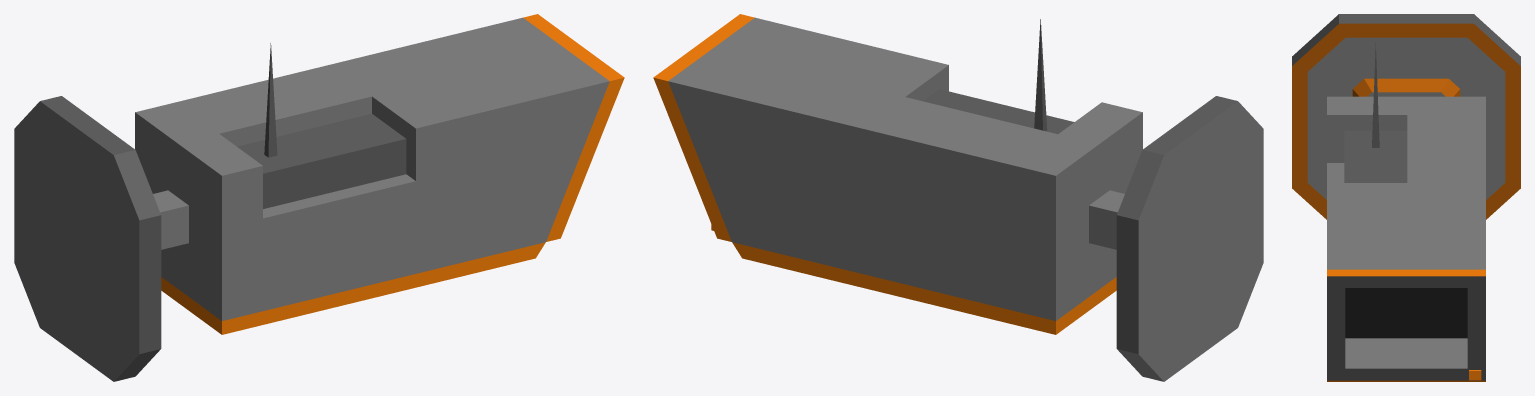
File: model_security_camera.fbx
The picture shows the model from 3 angles, left to right: view 1: azimuth 30°, elevation 25°; view 2: azimuth 150°, elevation 25°; view 3: azimuth 270°, elevation 25°; orthographic projection. The views are drawn at different scales.
Parts seen in each view (by area): view 1: camera, model_security_camera; view 2: camera, model_security_camera; view 3: camera, model_security_camera.
Part boxes in pixels (box(x1,y1,x2,y2)): camera: box(135, 14, 624, 334); model_security_camera: box(14, 96, 188, 381); camera: box(653, 14, 1142, 334); model_security_camera: box(1089, 96, 1263, 381); camera: box(1327, 42, 1485, 381); model_security_camera: box(1292, 14, 1520, 219).
Bounding box in the file's own units: 88.56 × 47.51 × 38.05.
Materials: 1 (1 with a texture image).
